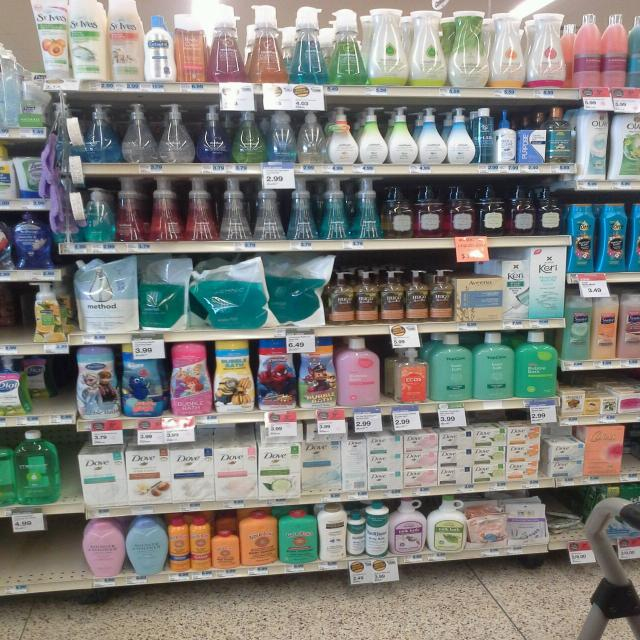empty: (1, 507, 94, 597), (43, 356, 85, 416)
